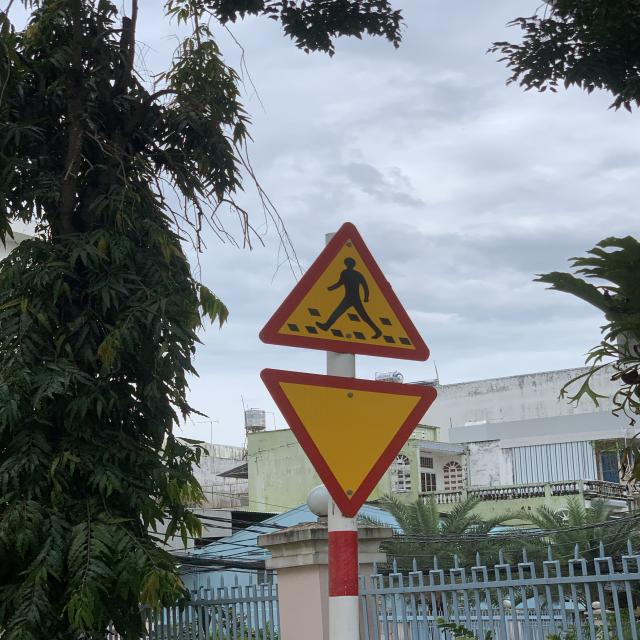Duong_Nguoi_Di_Bo_Sang_Ngang: (260, 222, 432, 359)
Gioi_Han_Toc_Do_25: (262, 368, 436, 517)
